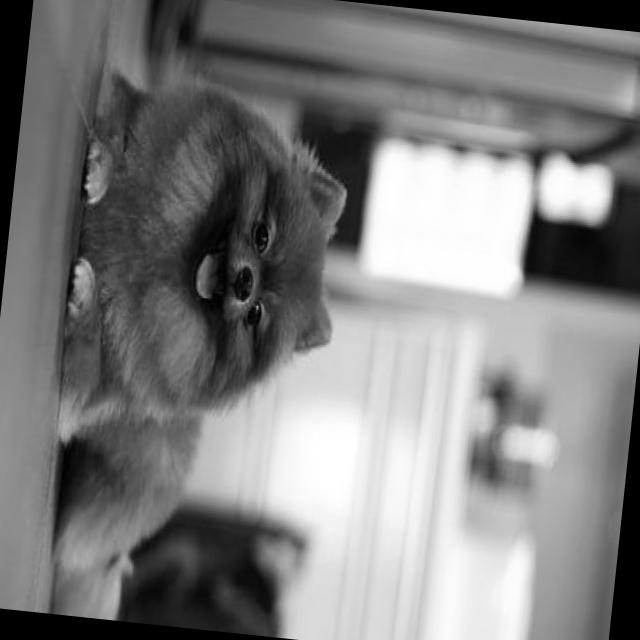laying down: (30, 42, 369, 640)
